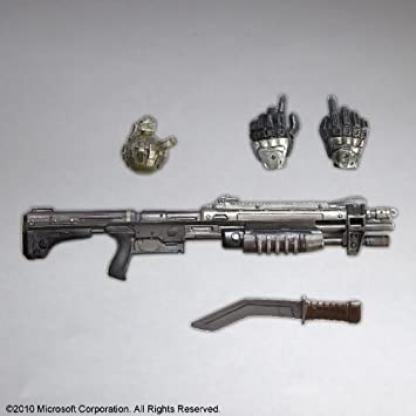Grenade: (120, 113, 176, 176)
Gun: (20, 190, 400, 284)
Knife: (191, 293, 366, 334)
